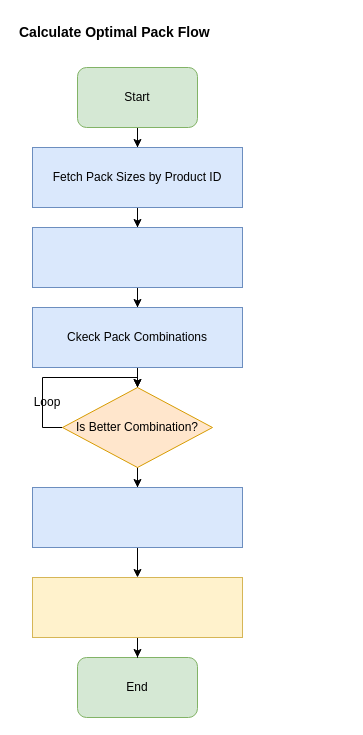
This 363x735 diagram has some shape labels left out. Each missing label, with the centre of its shape:
"Generate Pack Combinations" belongs at pixel 137 257.
"Return Optimal Pack Combination" belongs at pixel 137 607.
"Update Optimal Pack Combination" belongs at pixel 137 517.
